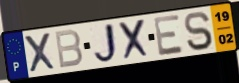B: (53, 28, 85, 70)
E: (152, 13, 186, 58)
J: (92, 21, 121, 65)
S: (183, 10, 215, 52)
X: (117, 17, 152, 62), (22, 31, 58, 74)
